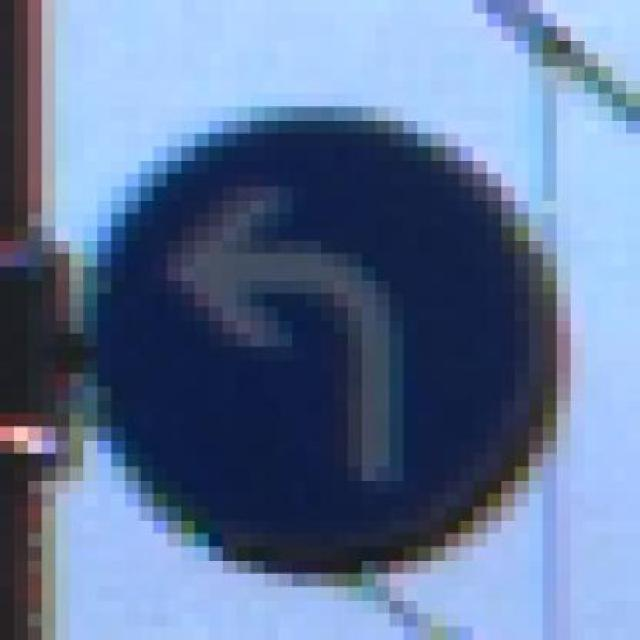Turn left ahead: (83, 79, 571, 587)
